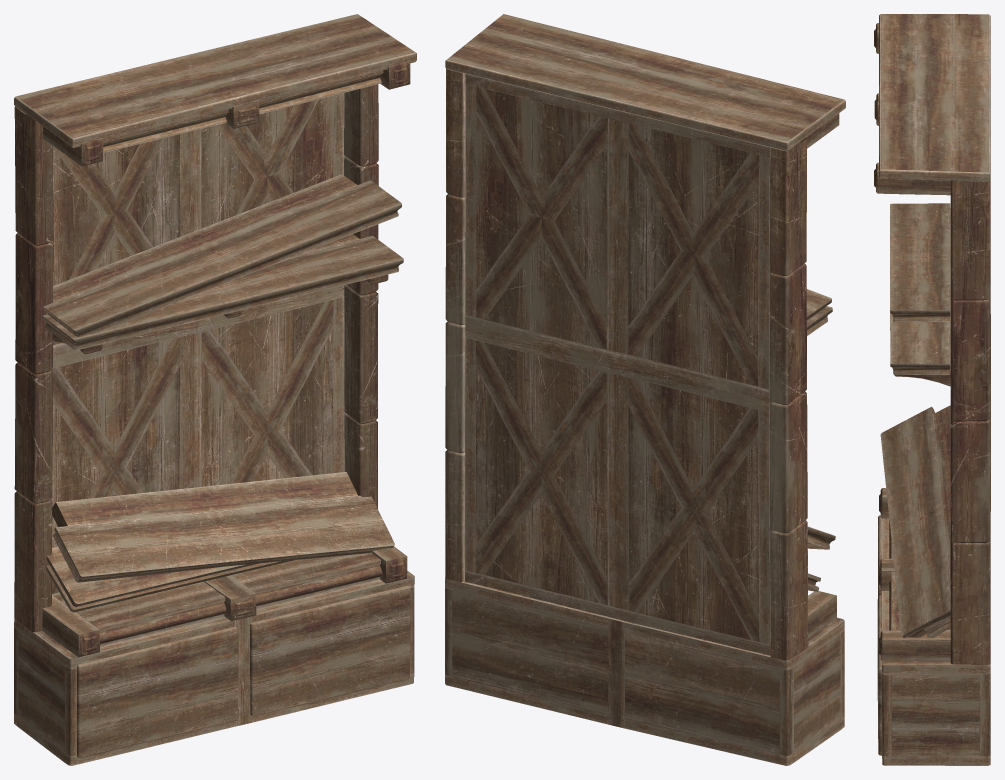
3 renders of one model, left to right at view 1: azimuth 30°, elevation 25°; view 2: azimuth 150°, elevation 25°; view 3: azimuth 270°, elevation 25°, orthographic. The views are drawn at different scales.
Parts seen in each view (by area): view 1: SM_DR_Bookshelf_09_LOD0; view 2: SM_DR_Bookshelf_09_LOD0; view 3: SM_DR_Bookshelf_09_LOD0.
Boxes of the visible parts, box(x1,y1,x2,y2) form: SM_DR_Bookshelf_09_LOD0: box(14, 14, 416, 765); SM_DR_Bookshelf_09_LOD0: box(445, 14, 845, 765); SM_DR_Bookshelf_09_LOD0: box(874, 14, 990, 765).
Size of the model in its own units: 2.43 by 4.24 by 0.7526.
1 material, 1 textured.
